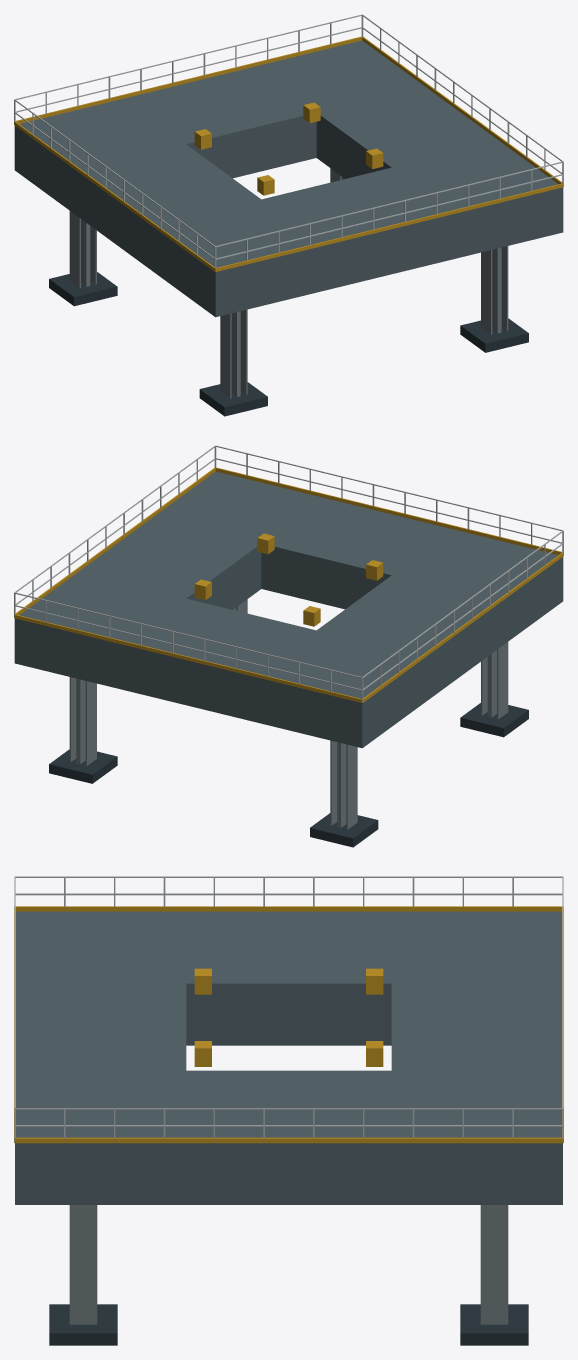
The model's file is mobile_launcher.glb.
3 views of the same model, one above another, from view 1: azimuth 30°, elevation 25°; view 2: azimuth 150°, elevation 25°; view 3: azimuth 270°, elevation 25° (orthographic). The views are drawn at different scales.
Visible parts, largest first — view 1: body; view 2: body; view 3: body.
Boxes of the visible parts, x1,y1,x2,y2 form: body: (14,14,563,416); body: (14,445,563,847); body: (14,876,563,1345).
Bounding box in the file's own units: 16.06 × 8.12 × 16.06.
